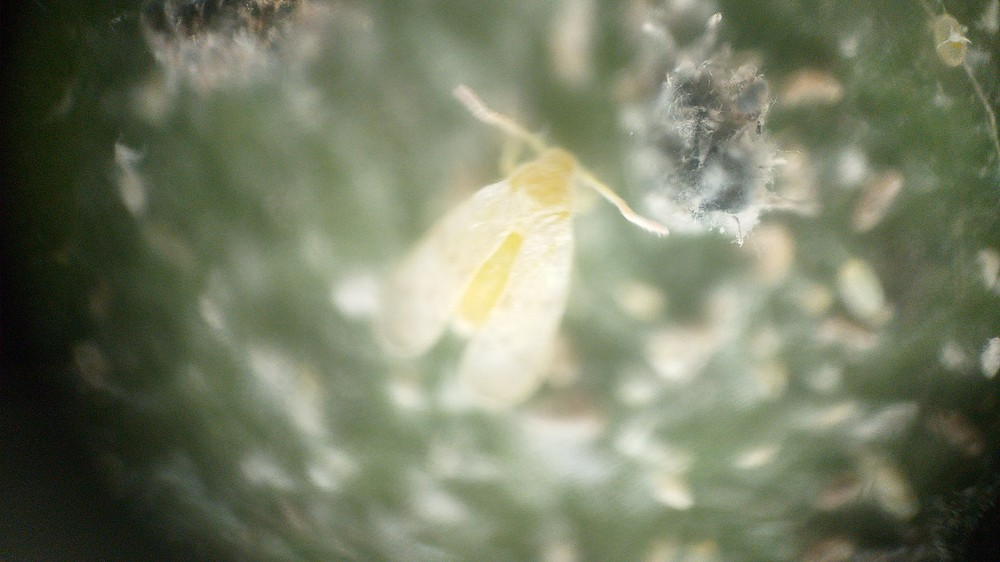Mosca Blanca: (364, 87, 683, 419)
